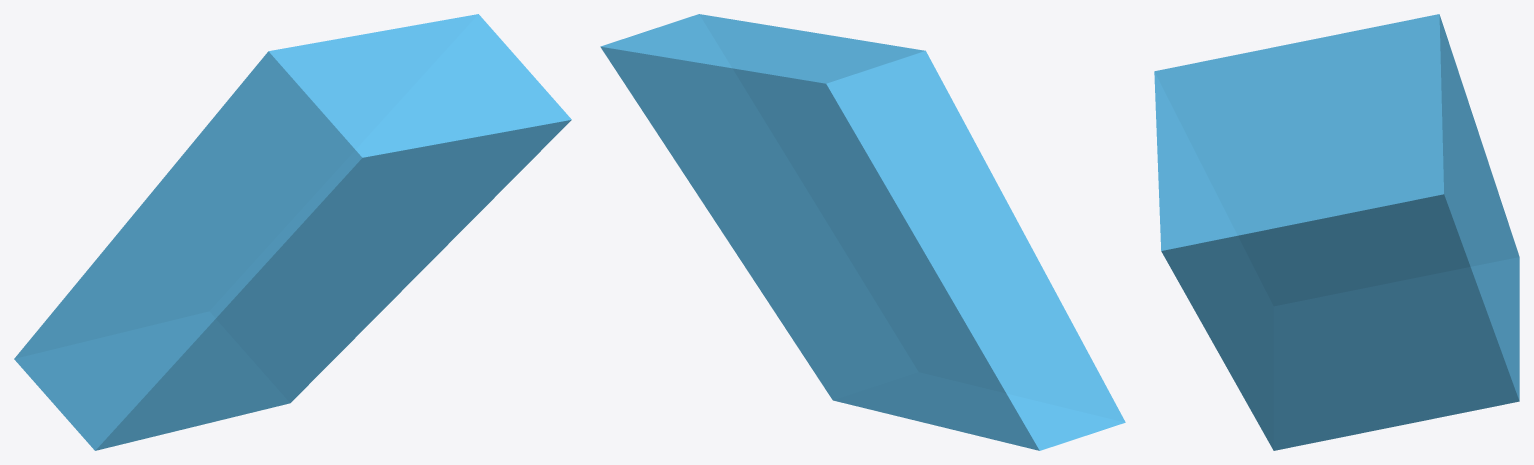
Rendered from Event_420107950_HBrechit_32.fbx.
The picture shows the model from 3 angles, left to right: view 1: azimuth 30°, elevation 25°; view 2: azimuth 150°, elevation 25°; view 3: azimuth 270°, elevation 25°; orthographic projection. The views are drawn at different scales.
Visible parts, largest first — view 1: Model; view 2: Model; view 3: Model.
Part boxes in pixels (left/top/right/bottom): Model: left=14, top=14, right=571, bottom=450; Model: left=600, top=14, right=1125, bottom=450; Model: left=1154, top=14, right=1519, bottom=450.
Size of the model in its own units: 1.23 by 0.8115 by 0.5826.
